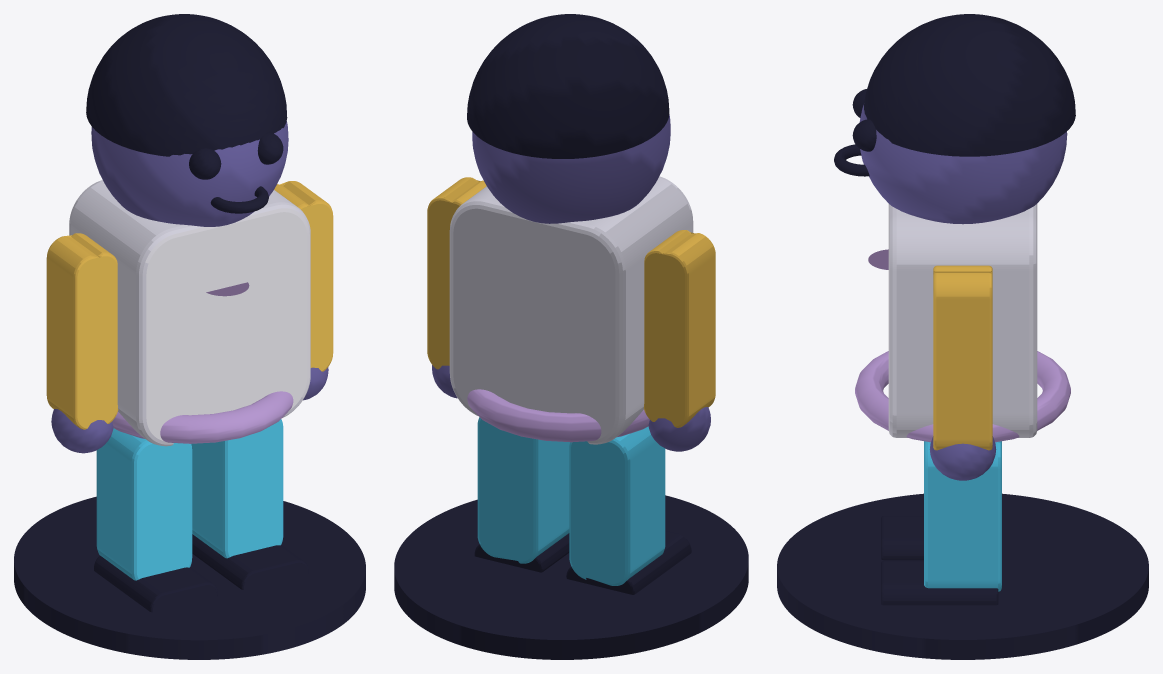
The model's file is 1163_海底两万里_采珠人.glb.
3 renders of one model, left to right at view 1: azimuth 30°, elevation 25°; view 2: azimuth 150°, elevation 25°; view 3: azimuth 270°, elevation 25°, orthographic.
Visible parts, largest first — view 1: card_1163; view 2: card_1163; view 3: card_1163.
Boxes of the visible parts, x1,y1,x2,y2 form: card_1163: [14, 14, 365, 659]; card_1163: [394, 14, 748, 659]; card_1163: [777, 14, 1148, 659].
Size of the model in its own units: 0.5639 by 1 by 0.599.
